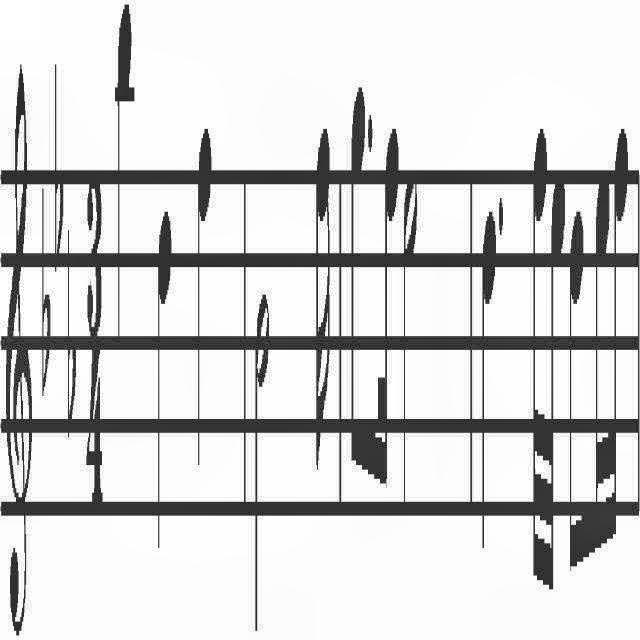Bass-clef: (4, 55, 34, 638)
Bemol: (41, 179, 51, 407), (54, 56, 64, 280), (67, 220, 77, 444)
Eighth-note: (350, 84, 366, 473), (569, 194, 585, 578)
Half-note: (254, 279, 270, 637), (402, 163, 418, 521)
Quarter-note: (115, 0, 134, 350), (479, 204, 496, 560), (196, 117, 212, 491), (156, 194, 172, 566)
Sixteenth-note: (378, 118, 400, 496), (593, 164, 611, 604), (612, 118, 628, 586), (314, 117, 332, 483)
